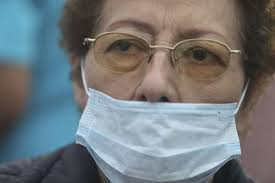with_mask: (67, 1, 257, 182)
